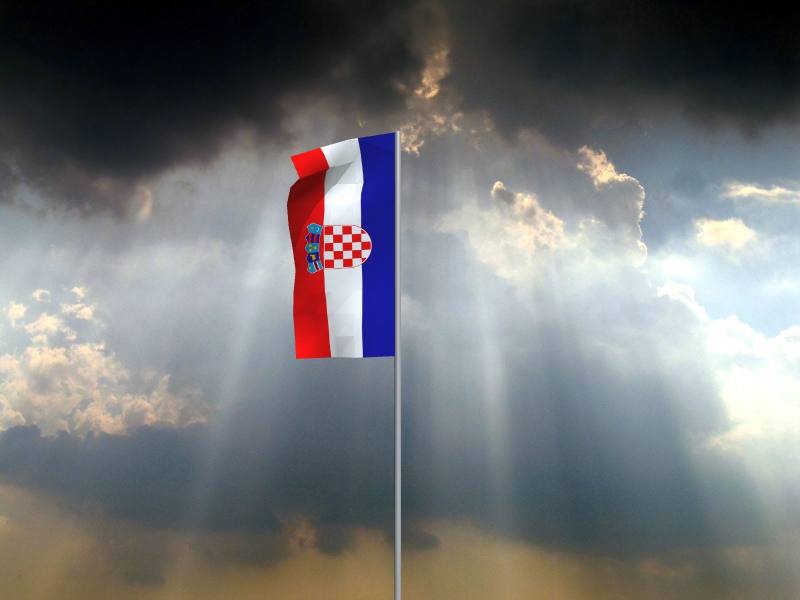hr: (287, 133, 395, 360)
